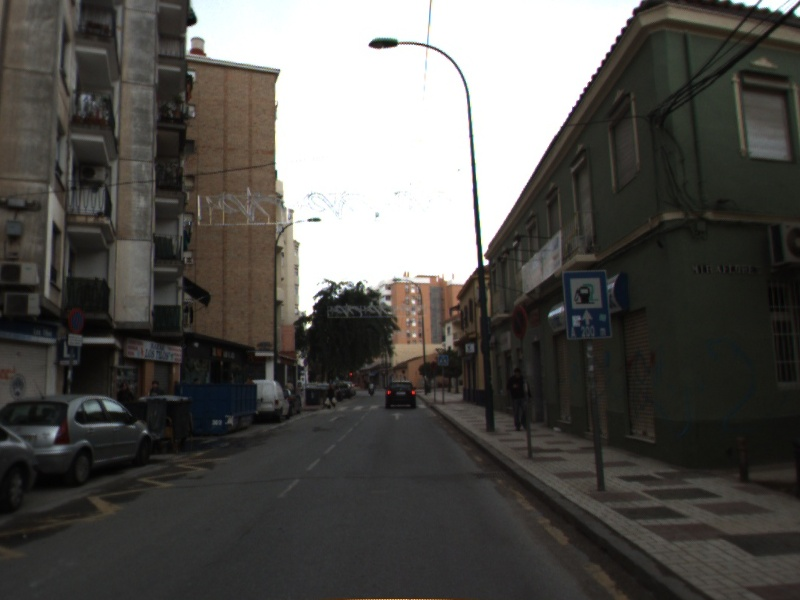STRAIGHT: (327, 412, 347, 423), (389, 410, 406, 421)
